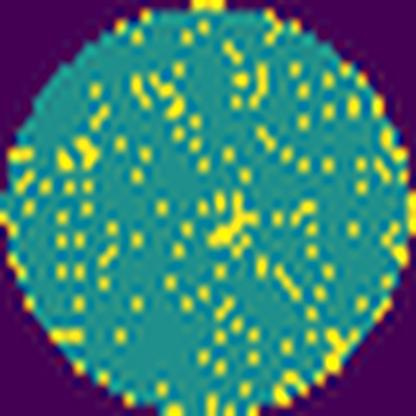Loc: (208, 189, 262, 249), (54, 132, 101, 180)
